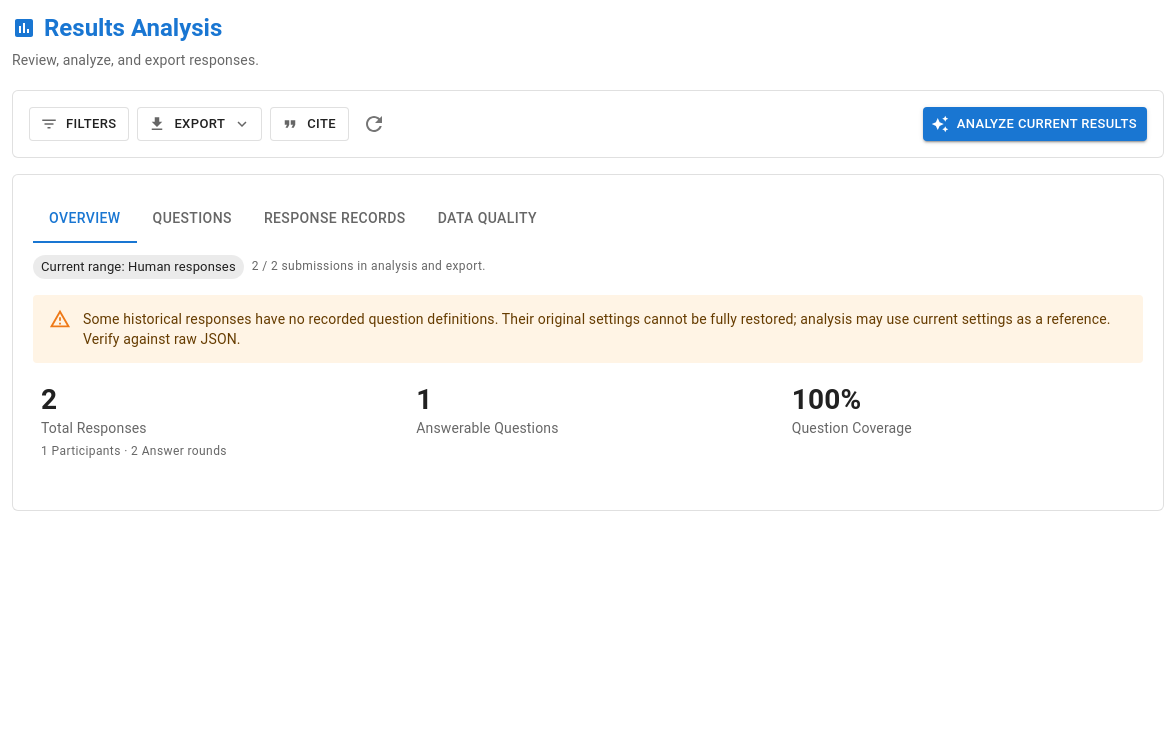
Test: the export menu offers the answers table, the analysis pack, figures and the dataset package
Expected: the text "2 / 2 submissions in analysis and export." is shown, [252,257,486,277]
Click the button "Export". click: coordinates (200, 124)
box: [137,107,262,141]
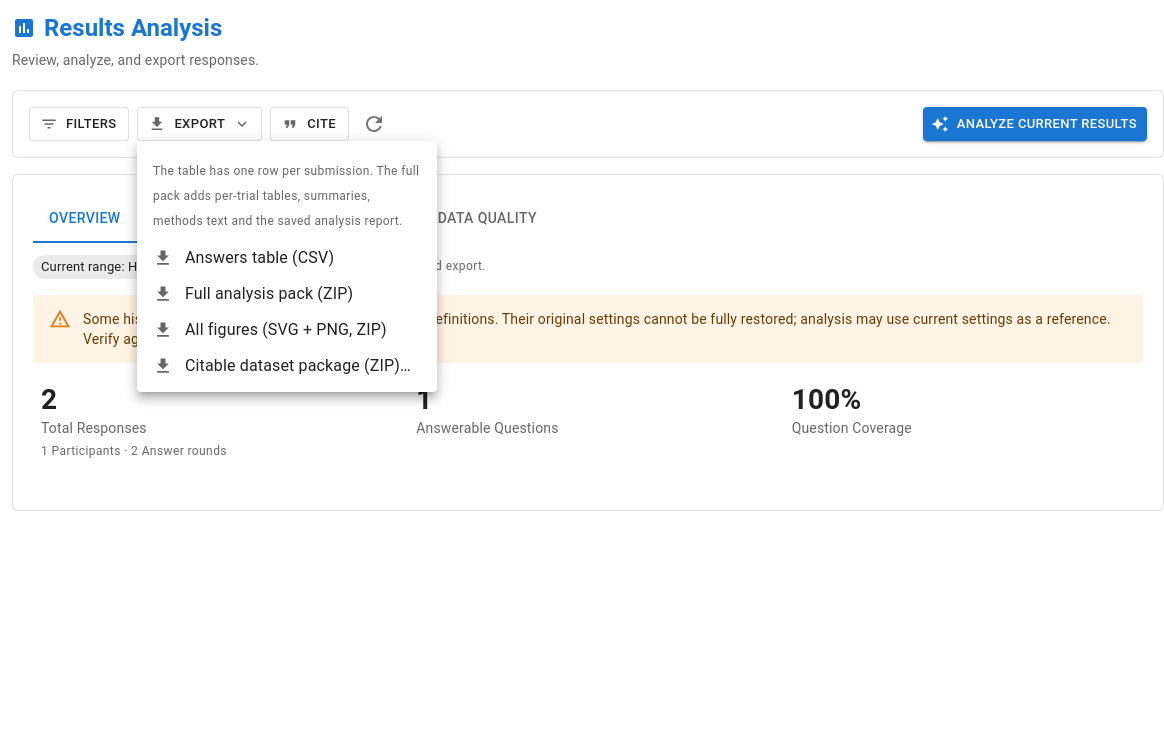
Expected: the menu items read "Answers table (CSV)", "Full analysis pack (ZIP)", "All figures (SVG + PNG, ZIP)", "Citable dataset package (ZIP)…", in this order, [153,248,334,268]; [153,284,353,304]; [153,320,387,340]; [153,356,411,376]
